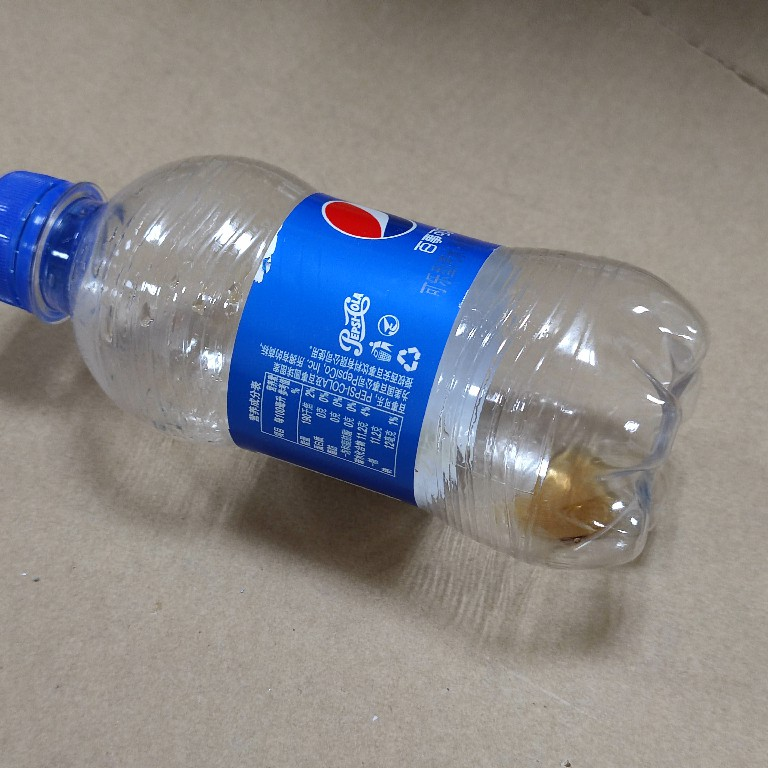bottle: (1, 144, 713, 582)
